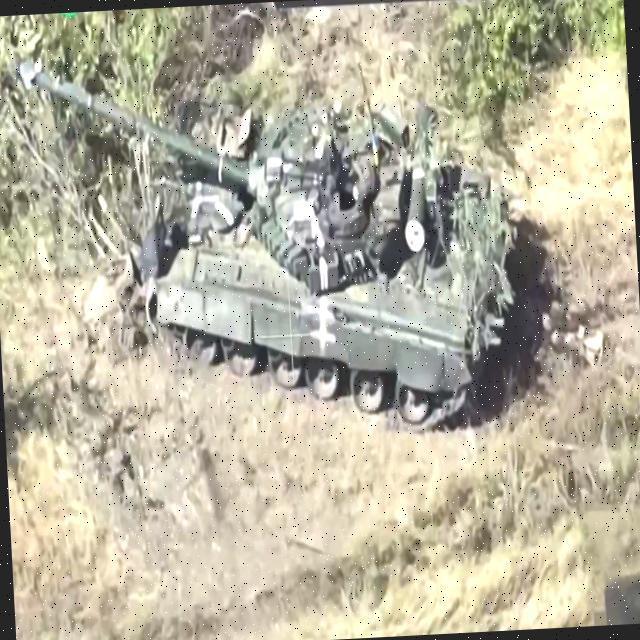MBT: (21, 38, 528, 454)
